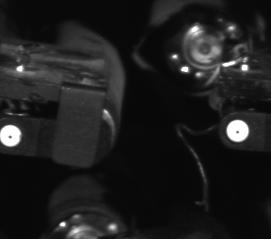fiber: (223, 117, 256, 146), (1, 119, 26, 151)
